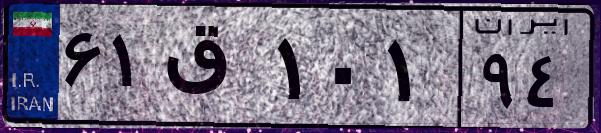0: (330, 28, 385, 110)
1: (270, 28, 330, 110), (385, 28, 445, 110), (110, 28, 158, 98)
4: (525, 38, 570, 115)
6: (57, 26, 110, 100)
9: (475, 38, 525, 113)
ق: (158, 20, 270, 120)
